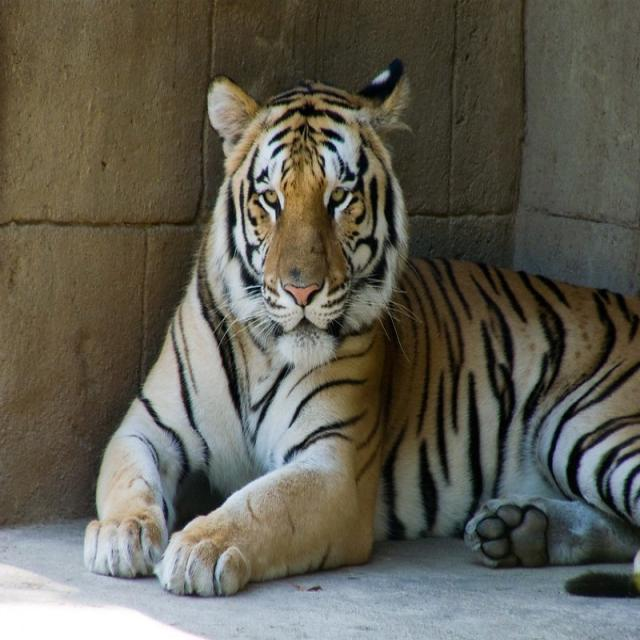Tiger: (72, 61, 618, 602)
